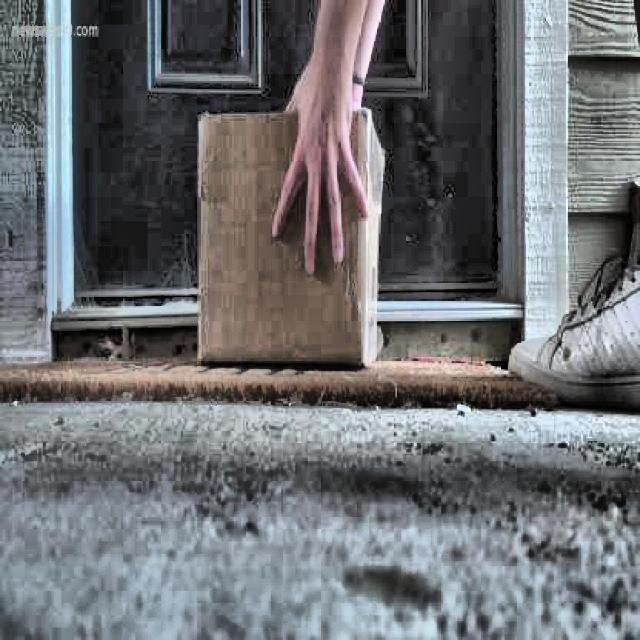Cardbox: (177, 86, 404, 372)
